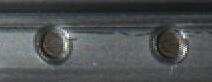joints: (149, 20, 190, 65), (32, 23, 72, 65)
